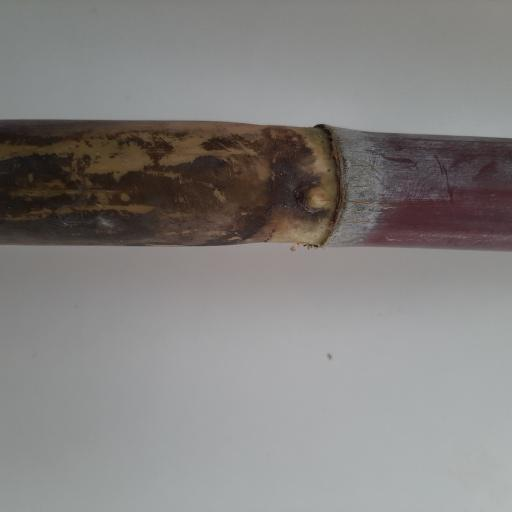Bud: (300, 184, 335, 212)
